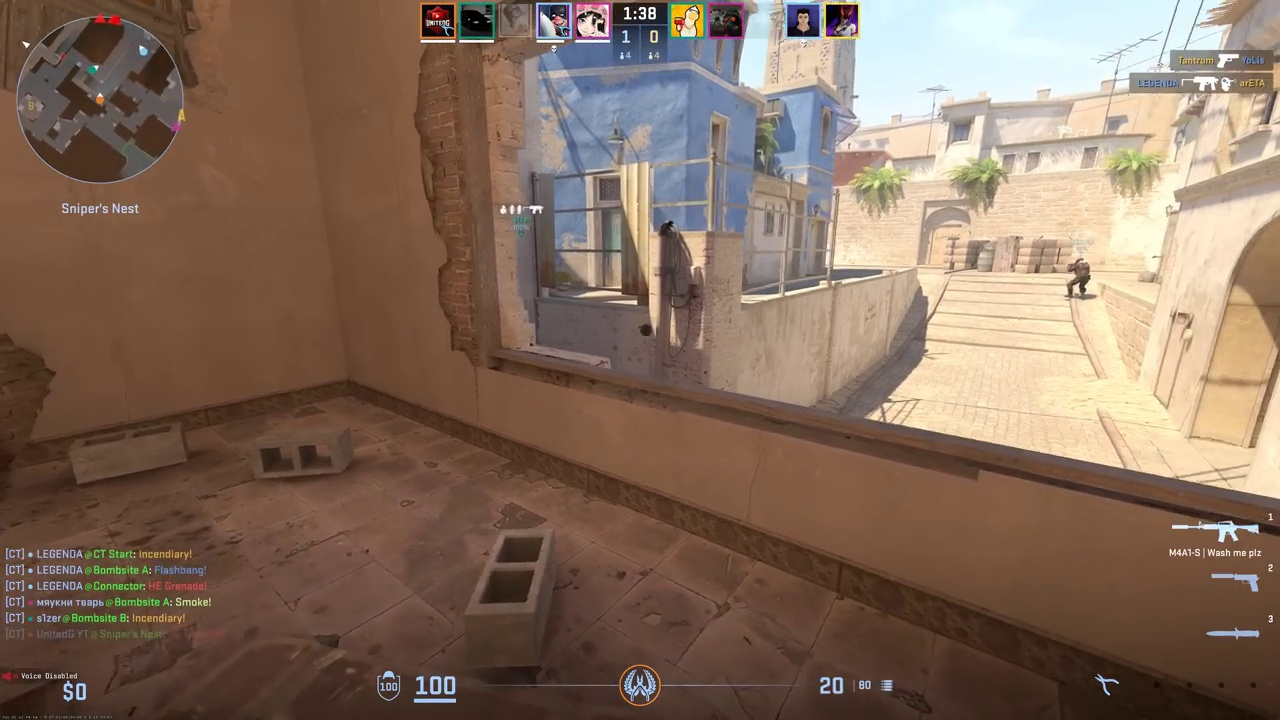CT: (1070, 258, 1091, 298)
